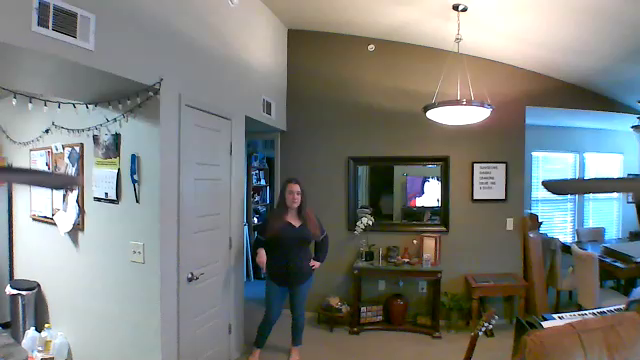down: (251, 246, 270, 279)
